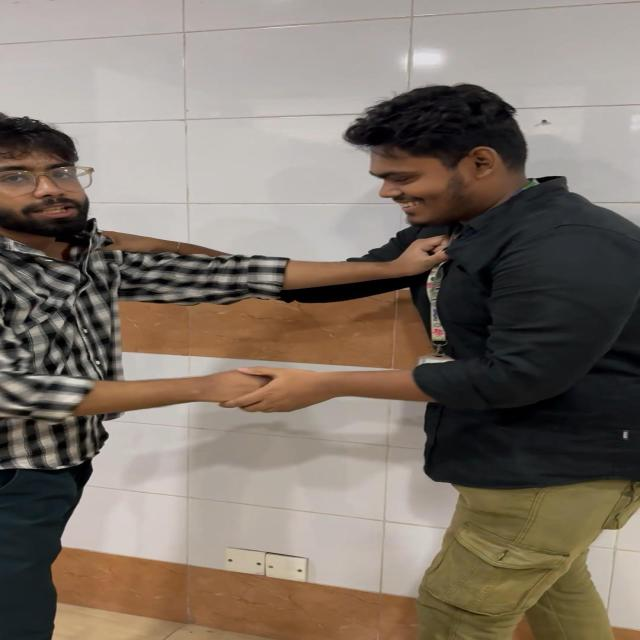fight: (0, 79, 640, 637)
